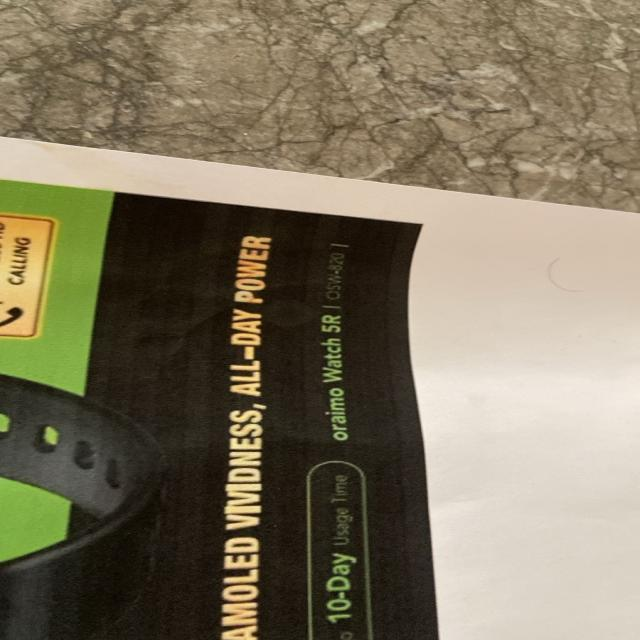Oraimo Watch 5R OSW-820: (321, 238, 360, 441)
